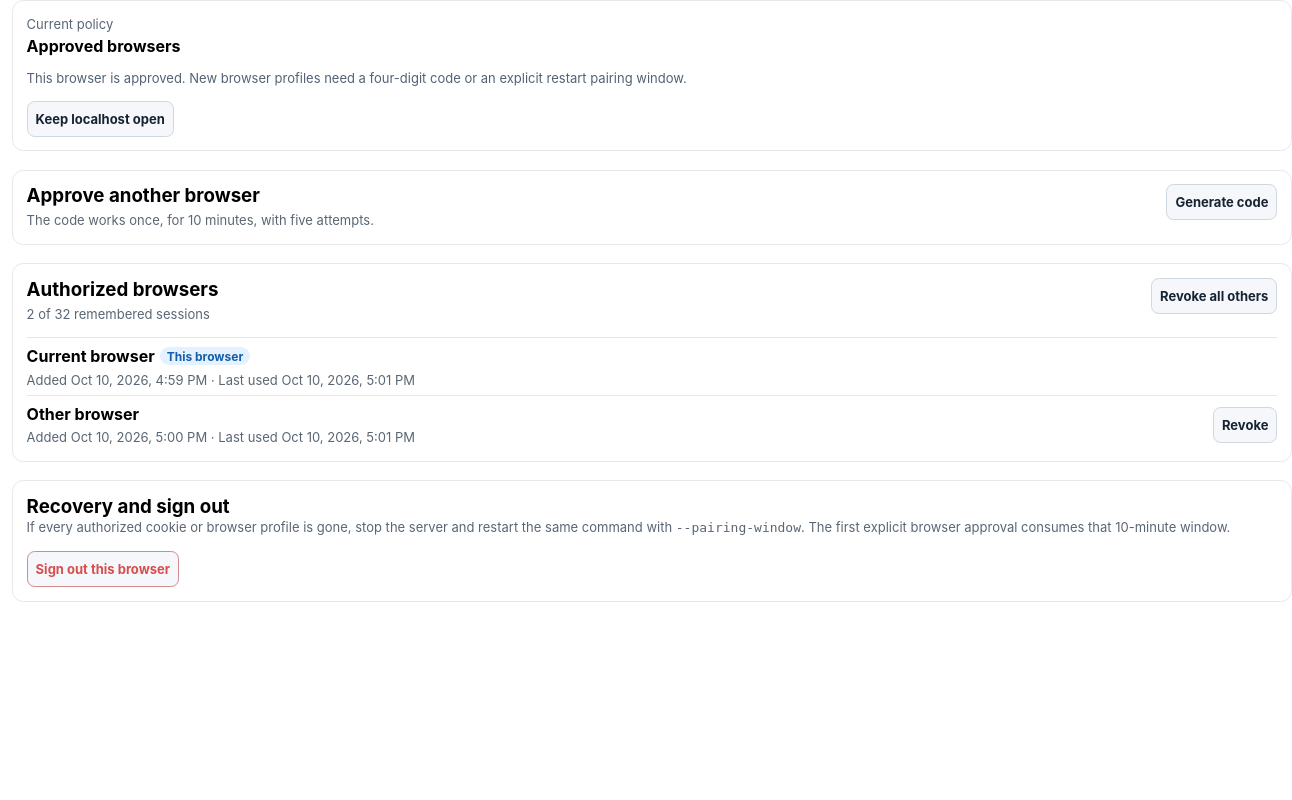
Scenario: WebAccessSettingsSection › lists sessions and generates a four-digit handoff
Check: the text "Current browser" is shown, box [27,346,155,366]
Check: the text "Other browser" is shown, box [27,404,139,424]
Click the button "Generate code" at (1222, 202), box [1166,184,1277,220]
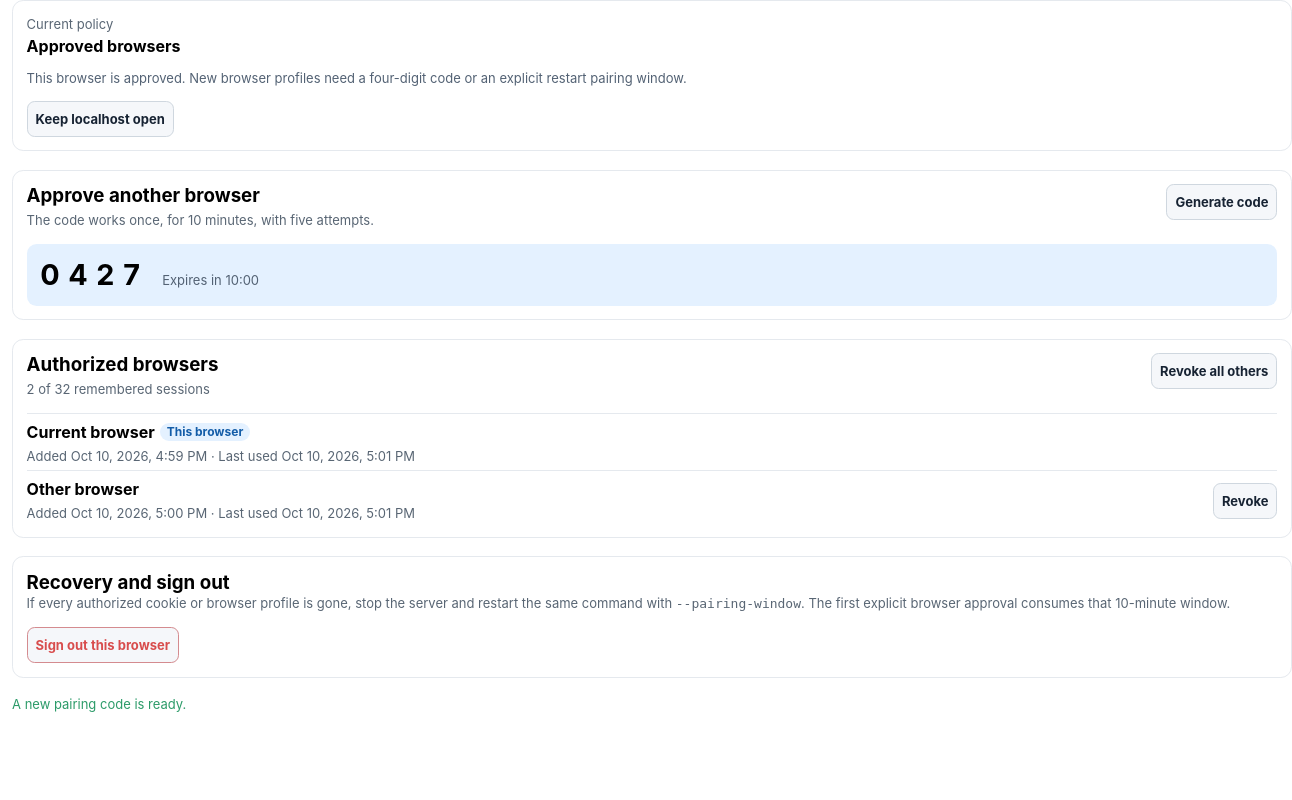
Check: the text named "Pairing code 0 4 2 7" reads "0427", box [40,257,148,292]
Check: the text "Expires in 10:00" is shown, box [162,272,259,288]
